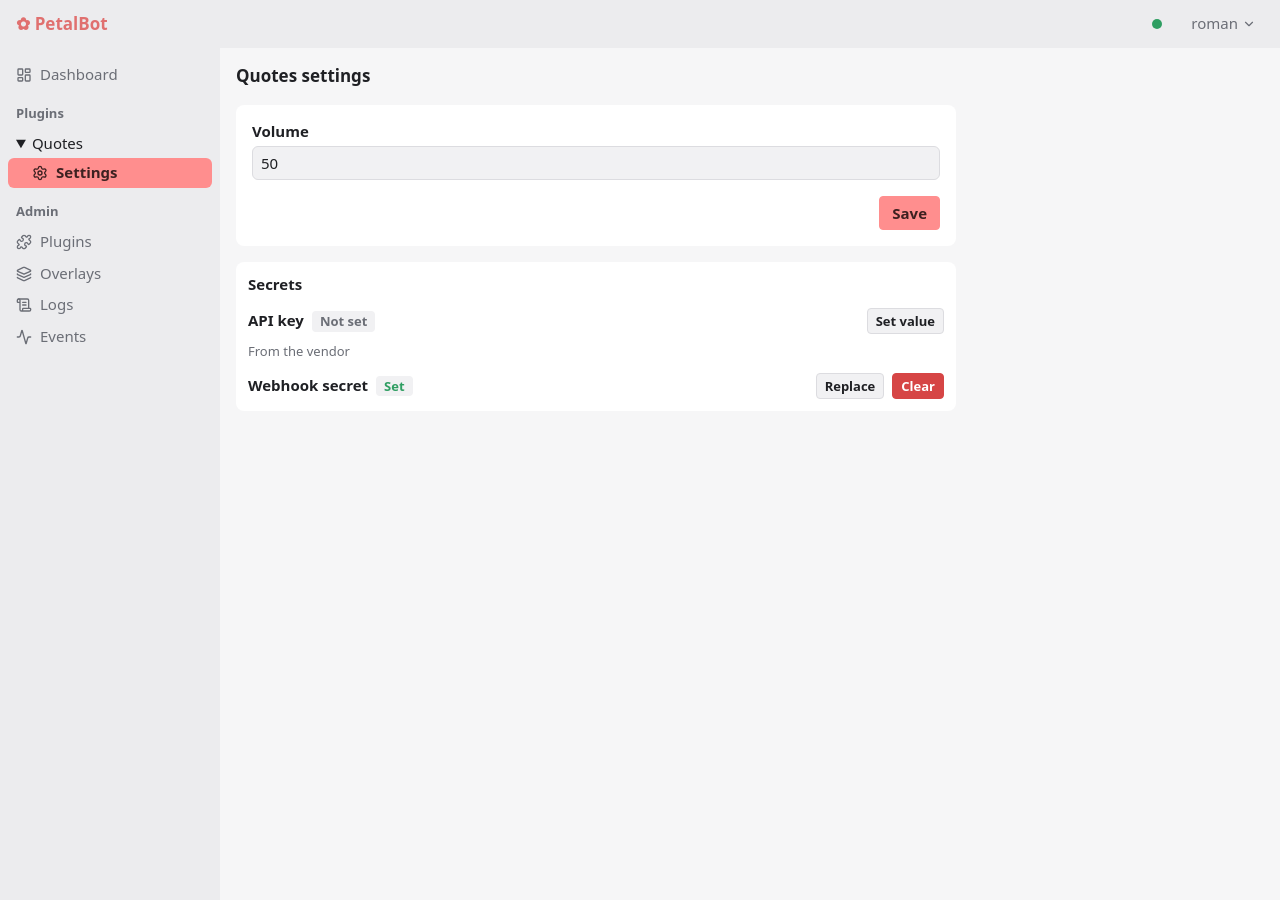
Test: secrets card › sets a value from a password field
This screenshot has width=1280, height=900.
Click the button "Set value".
click(905, 321)  # box [867,308,944,334]
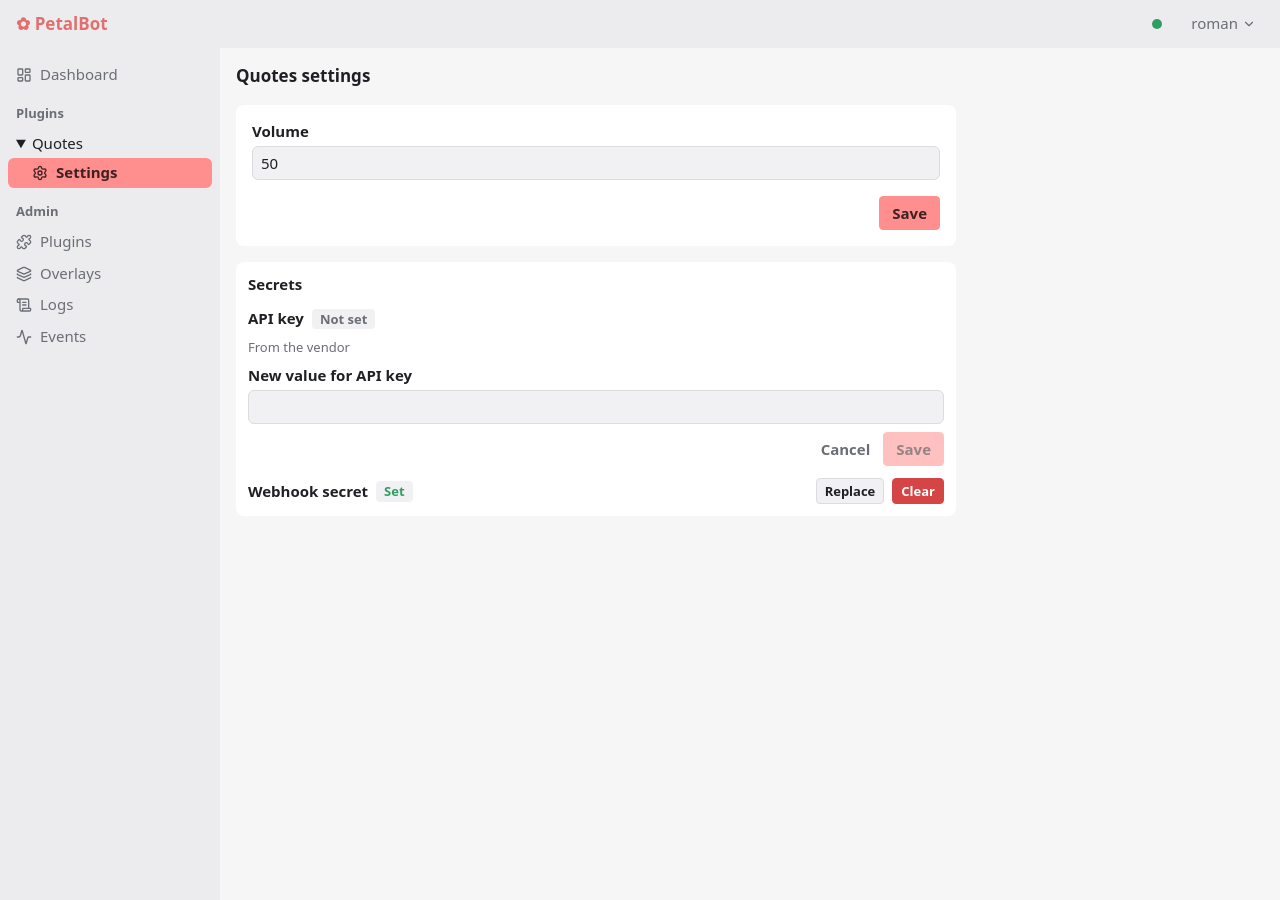
Check: the 2nd button "Save" is disabled, box [883,432,944,466]
Type "sk-123" into the password field labelled "New value for API key".
click(596, 408); type("sk-123")  # box [248,390,944,424]
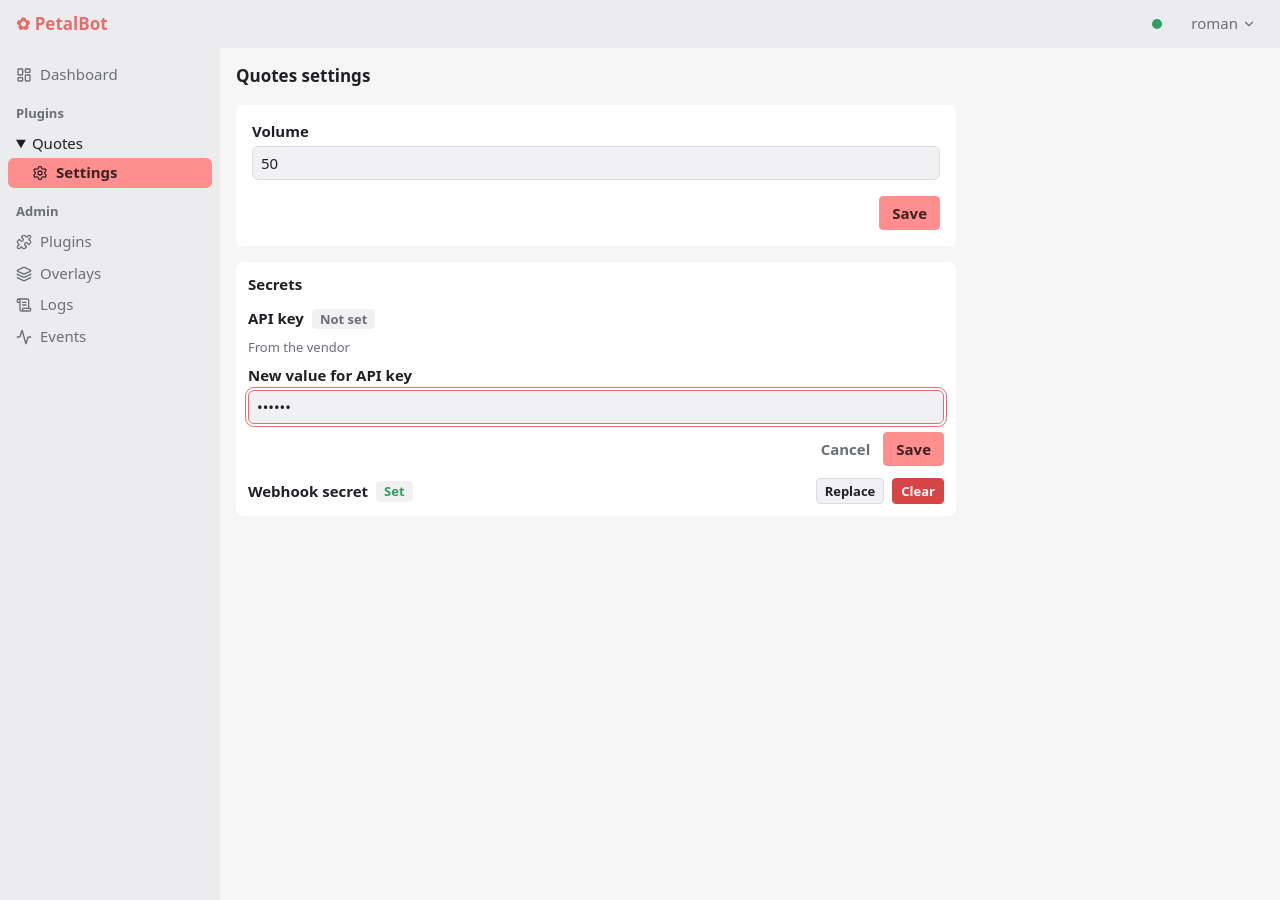
Click the 2nd button "Save".
click(914, 450)  # box [883,432,944,466]
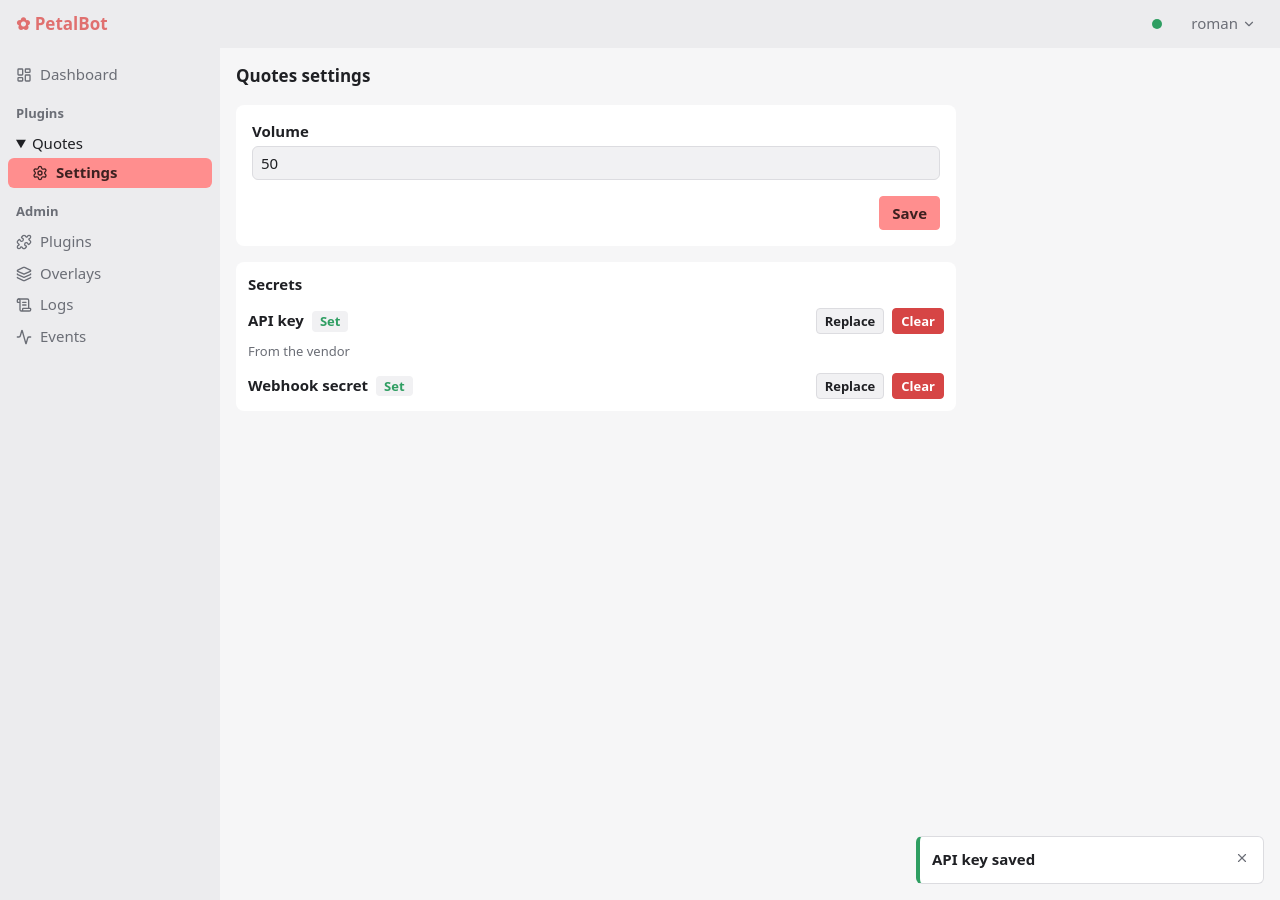
Check: the 1st text "Set" is shown, box [312,311,348,332]
Check: the text "API key saved" is shown, box [932,849,1035,869]
Check: the label labelled "New value for API key" is gone
